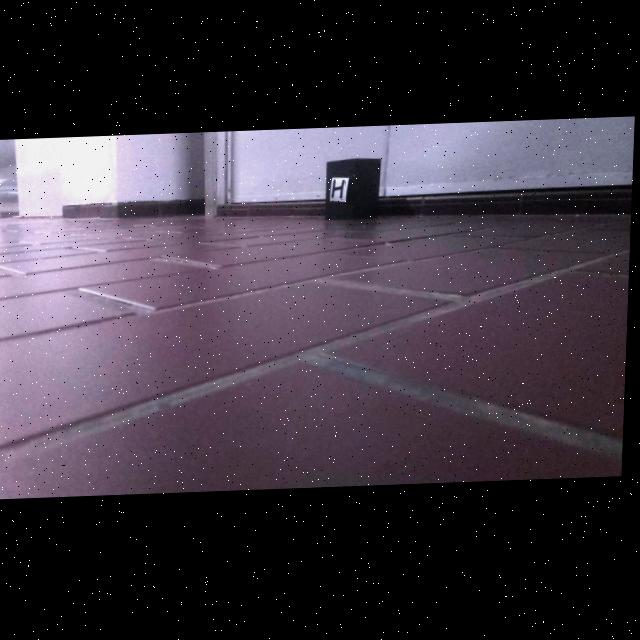H: (334, 183, 346, 202)
